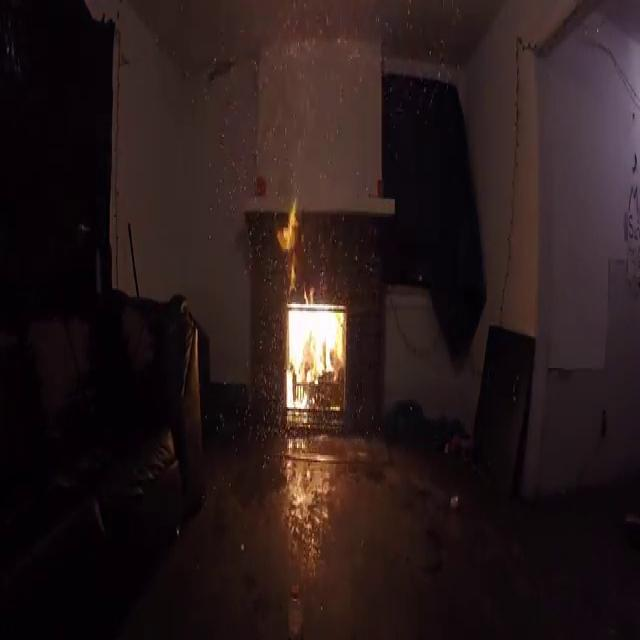fire: (272, 194, 356, 437)
